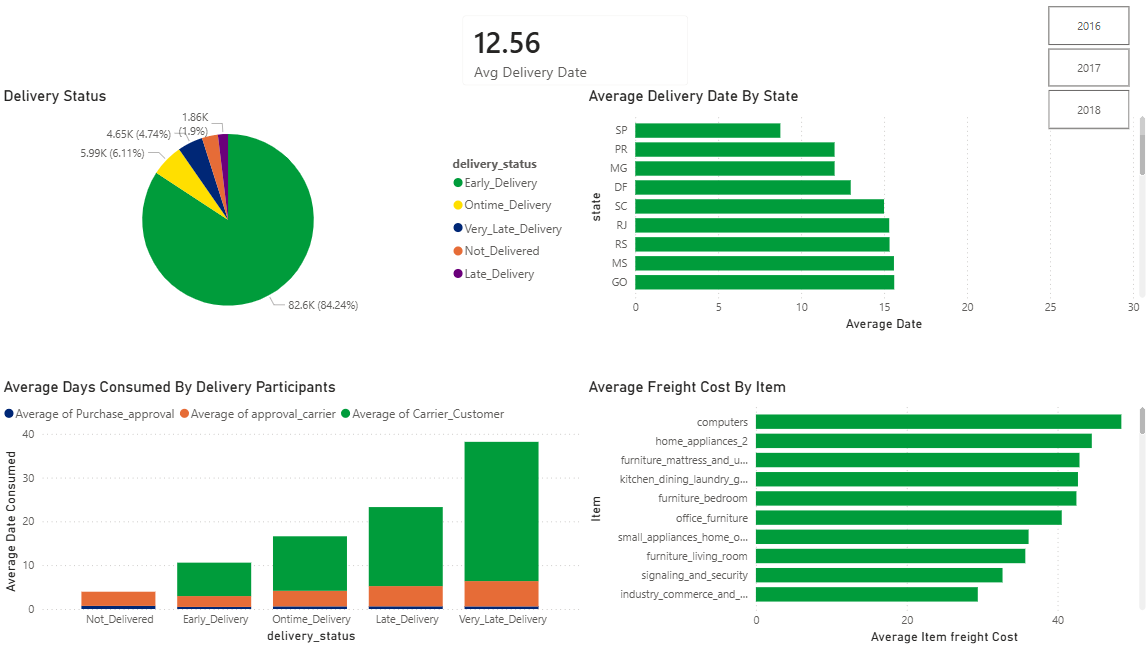

The dashboard page shown, as its layout file describes it:
{"tool":"powerbi","page":{"name":"Delivery and logistics","canvas":[1280,720],"ordinal":2},"visuals":[{"type":"cardVisual","fields":{"Data":["Avg(Gold dim_order.Purchase_Customer)"]},"box":[497.5,0,285,112.5],"z":0},{"type":"clusteredBarChart","title":"Average Freight Cost By Item","fields":{"Category":["Gold dim_products.product_category_name"],"Y":["Avg(Gold fact_order_items.item_freight)"]},"box":[650,420,630,300],"z":1000},{"type":"pieChart","title":"Delivery Status ","fields":{"Y":["CountNonNull(Gold dim_order.delivery_status)"],"Category":["Gold dim_order.delivery_status"]},"box":[0,96.2,640,276.2],"z":2000},{"type":"columnChart","title":"Average Days Consumed By Delivery Participants","fields":{"Y":["Avg(Gold dim_order.Purchase_approval)","Avg(Gold dim_order.approval_carrier)","Avg(Gold dim_order.Carrier_Customer)"],"Category":["Gold dim_order.delivery_status"]},"box":[0,420,650,300],"z":3000},{"type":"clusteredBarChart","title":"Average Delivery Date By State","fields":{"Category":["Gold dim_customer.state"],"Y":["Avg(Gold dim_order.Purchase_Customer)"]},"box":[650,96.2,630,276.2],"z":4000},{"type":"slicer","fields":{"Values":["Gold dim_date.year"]},"box":[1140,0,140,150],"z":5000}]}

Visuals, with their boxes in screenshot pixels (x1, y1, x2, y2), scaled from the page's 1280x720 canvas onto the 1147x646 screenshot:
cardVisual - Avg(Gold dim_order.Purchase_Customer): Rect(446, 0, 701, 101)
"Average Freight Cost By Item" clusteredBarChart: Rect(582, 377, 1146, 645)
"Delivery Status " pieChart: Rect(0, 86, 574, 334)
"Average Days Consumed By Delivery Participants" columnChart: Rect(0, 377, 582, 645)
"Average Delivery Date By State" clusteredBarChart: Rect(582, 86, 1146, 334)
slicer - Gold dim_date.year: Rect(1022, 0, 1146, 135)
